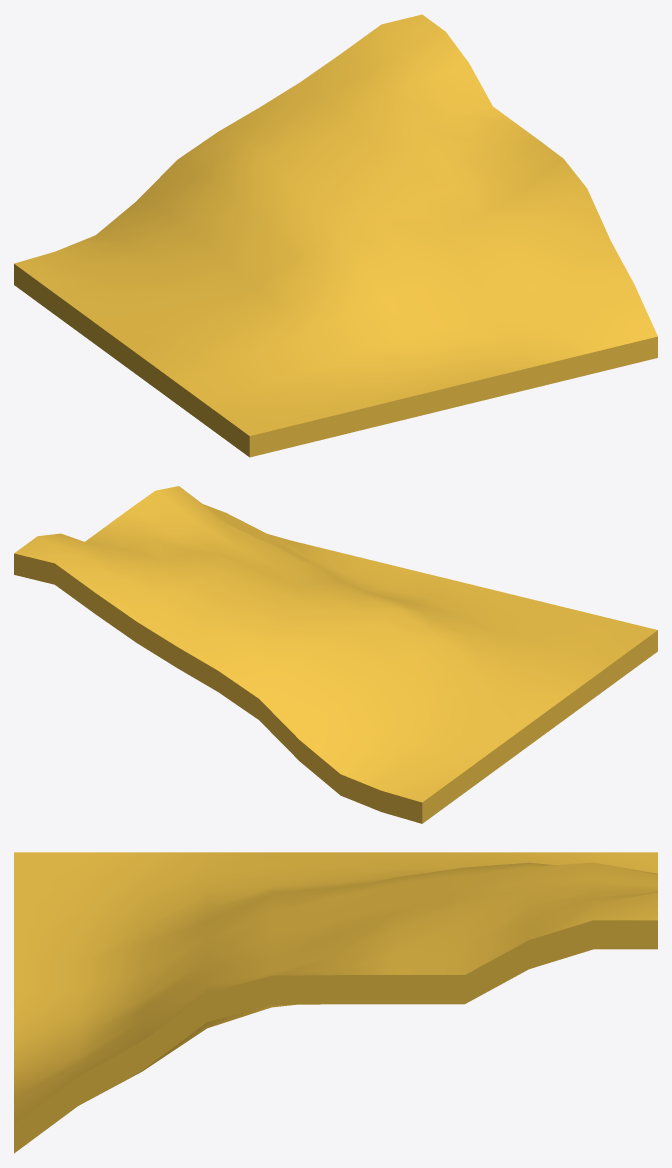
Rendered from Flach - Mitte - Ecke a - b.fbx.
3 renders of one model, top to bottom at view 1: azimuth 30°, elevation 25°; view 2: azimuth 150°, elevation 25°; view 3: azimuth 270°, elevation 25°, orthographic. The views are drawn at different scales.
Visible parts, largest first — view 1: Flach - Mitte - Ecke a - b; view 2: Flach - Mitte - Ecke a - b; view 3: Flach - Mitte - Ecke a - b.
Part boxes in pixels (box(x1,y1,x2,y2)): Flach - Mitte - Ecke a - b: box(14, 14, 657, 457); Flach - Mitte - Ecke a - b: box(14, 486, 657, 823); Flach - Mitte - Ecke a - b: box(14, 852, 657, 1153).
Size of the model in its own units: 394 by 157 by 394.
